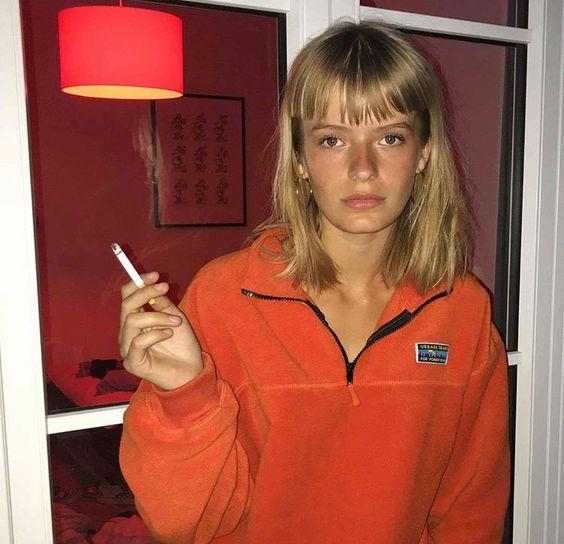cigarette: (109, 241, 156, 306)
